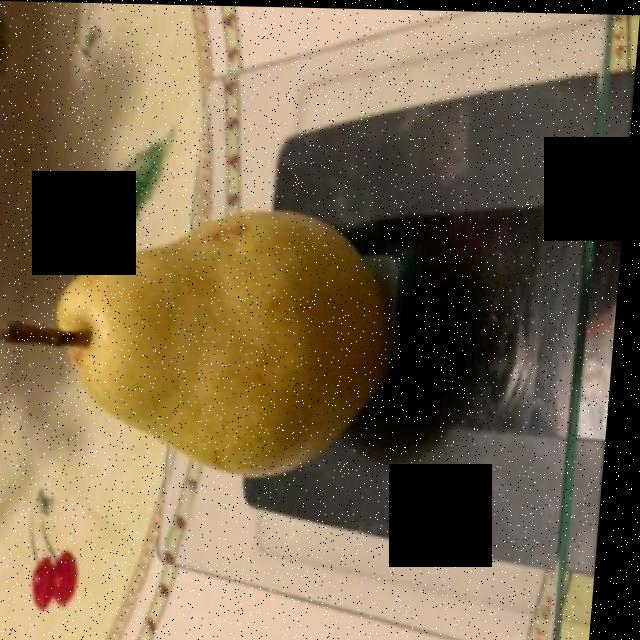pear: (53, 208, 387, 470)
